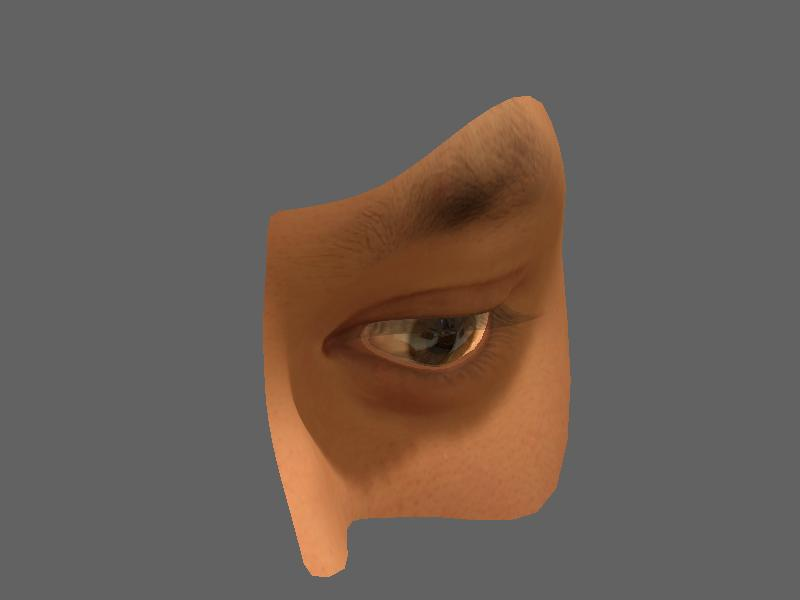iris: (415, 316, 486, 369)
